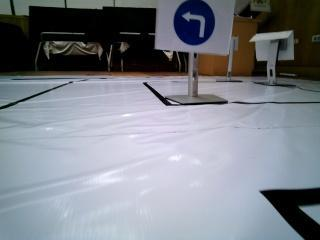left: (162, 0, 233, 53)
